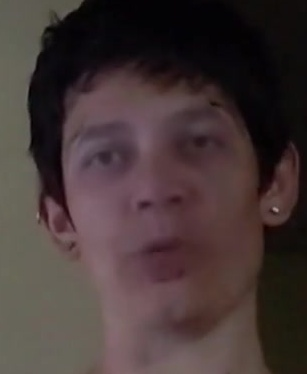eb_f: (62, 97, 253, 179)
